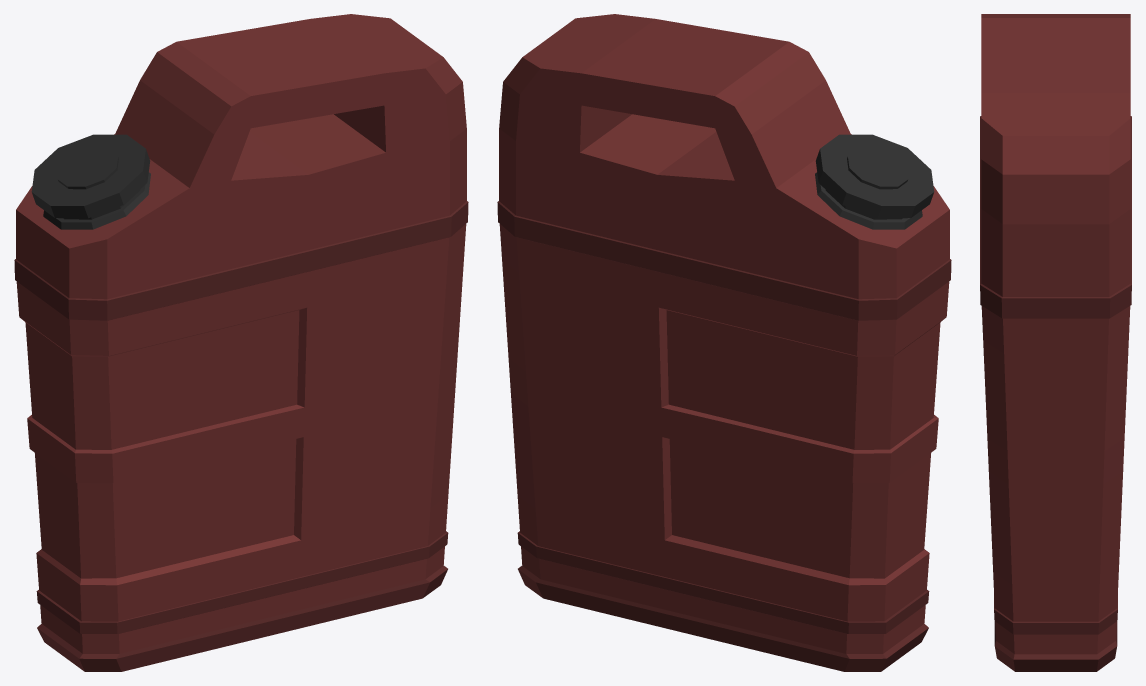
The model's file is Gas Can.glb.
The picture shows the model from 3 angles, left to right: view 1: azimuth 30°, elevation 25°; view 2: azimuth 150°, elevation 25°; view 3: azimuth 270°, elevation 25°; orthographic projection.
Visible parts, largest first — view 1: GasCan; view 2: GasCan; view 3: GasCan.
Part boxes in pixels (box(x1,y1,x2,y2)): GasCan: box(14, 14, 468, 671); GasCan: box(497, 14, 951, 671); GasCan: box(980, 14, 1131, 671).
Bounding box in the file's own units: 1.88 × 2.47 × 0.6153.
